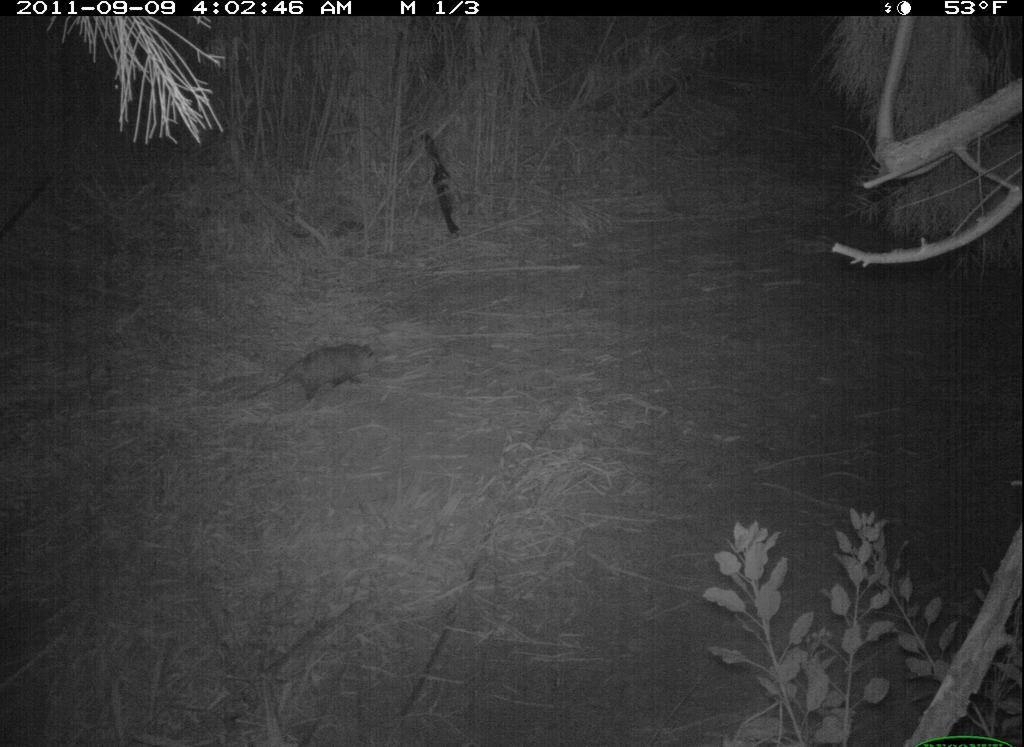opossum: (227, 340, 386, 411)
